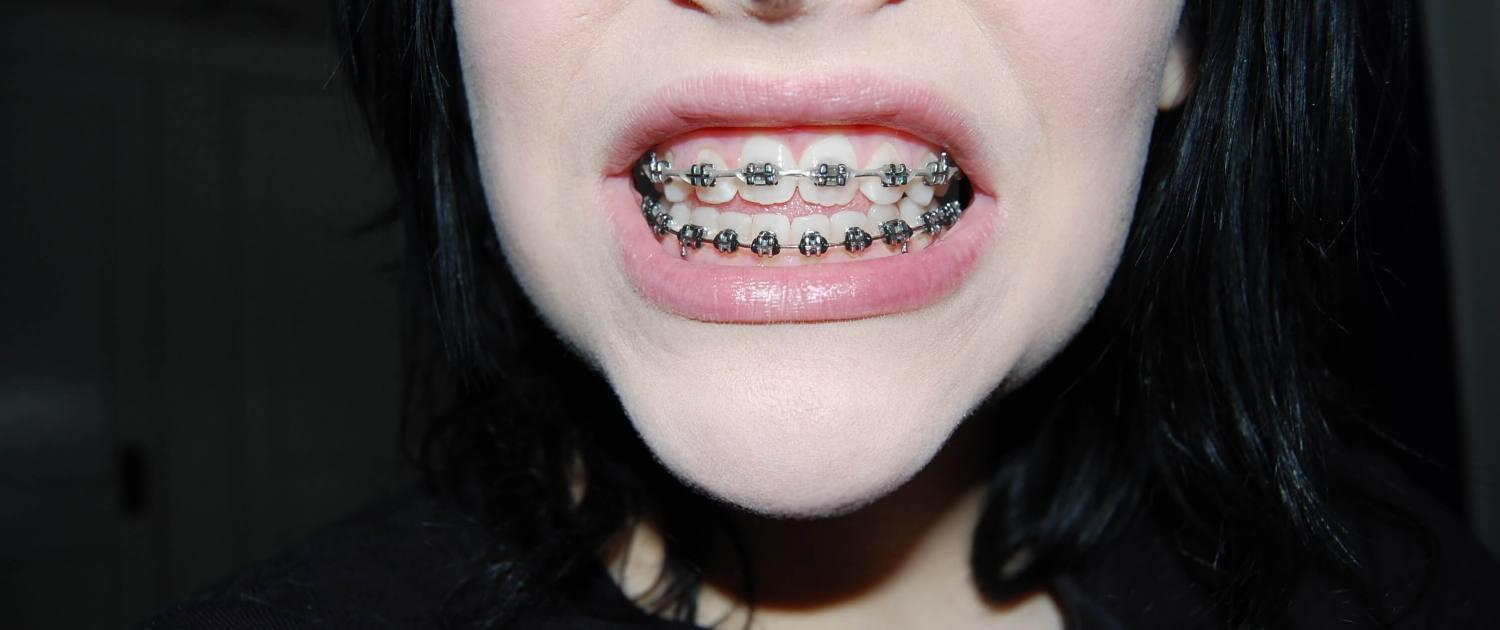Braces: (633, 138, 975, 257)
